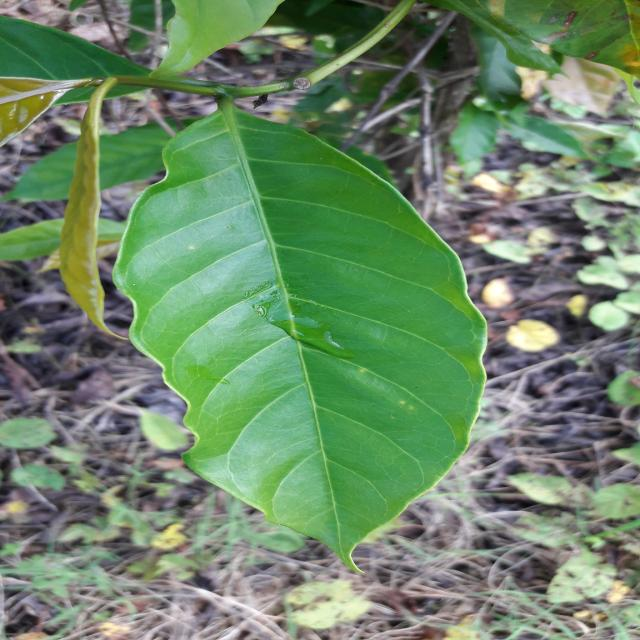Enfermedad-Roya: (97, 100, 487, 562)
